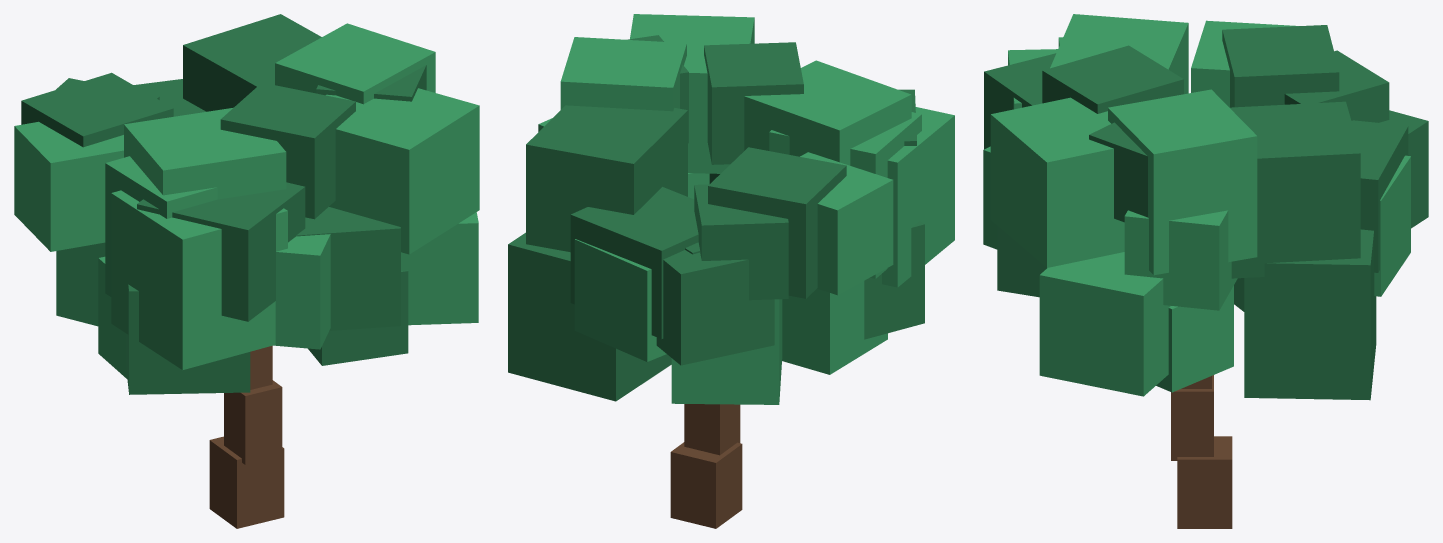
Rendered from treeYoung.glb.
3 renders of one model, left to right at view 1: azimuth 30°, elevation 25°; view 2: azimuth 150°, elevation 25°; view 3: azimuth 270°, elevation 25°, orthographic. The views are drawn at different scales.
Visible parts, largest first — view 1: treeYoung_leafMid, treeYoung_leafDark, treeYoung_bark; view 2: treeYoung_leafDark, treeYoung_leafMid, treeYoung_bark; view 3: treeYoung_leafMid, treeYoung_leafDark, treeYoung_bark.
Boxes of the visible parts, x1,y1,x2,y2 form: treeYoung_leafMid: [14, 23, 479, 378]; treeYoung_leafDark: [21, 14, 426, 394]; treeYoung_bark: [209, 345, 284, 528]; treeYoung_leafDark: [508, 35, 924, 401]; treeYoung_leafMid: [538, 14, 954, 404]; treeYoung_bark: [670, 404, 742, 528]; treeYoung_leafMid: [983, 14, 1410, 396]; treeYoung_leafDark: [984, 25, 1428, 400]; treeYoung_bark: [1171, 375, 1232, 528].
Bounding box in the file's own units: 6.13 × 6.64 × 6.04.
